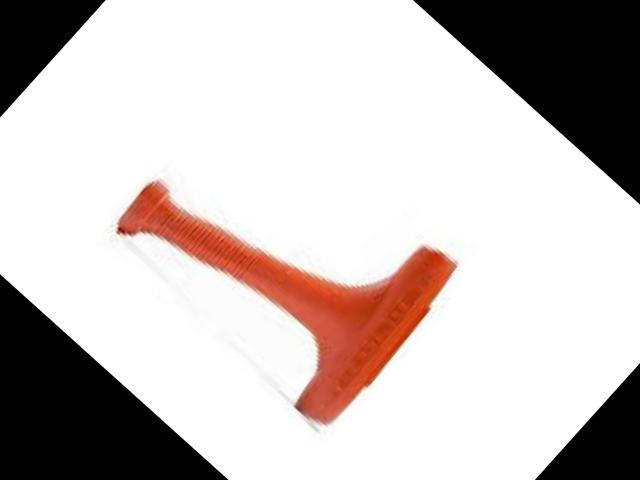hammer: (100, 70, 472, 436)
